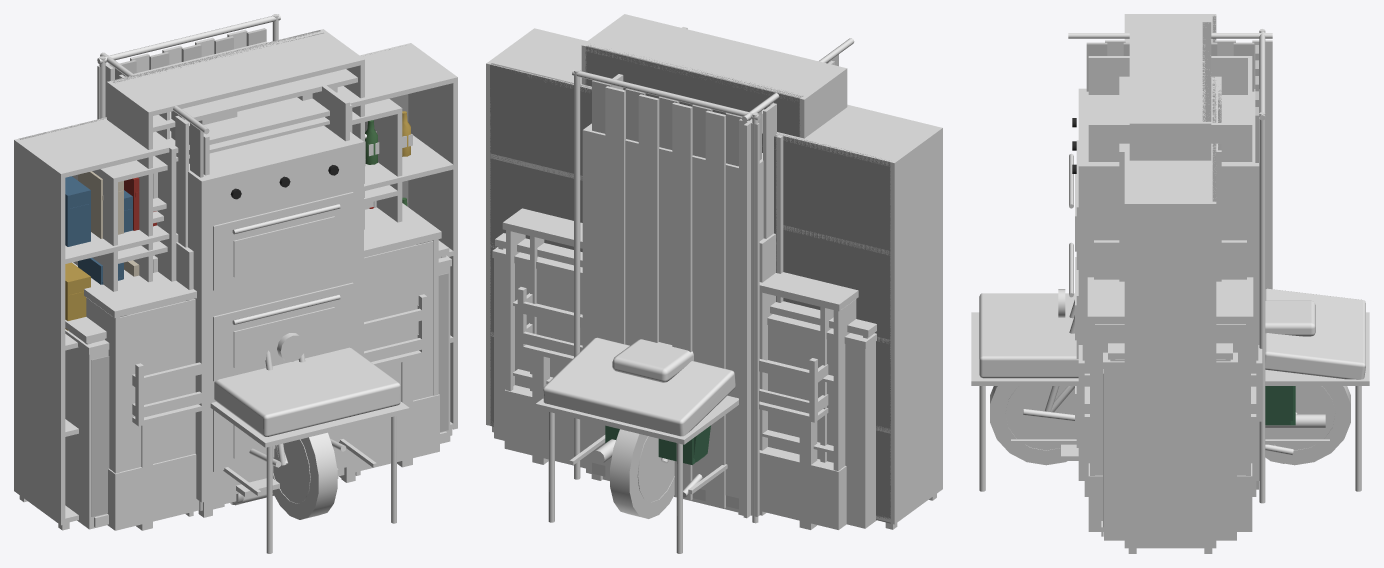
File: furn_shop.glb
3 renders of one model, left to right at view 1: azimuth 30°, elevation 25°; view 2: azimuth 150°, elevation 25°; view 3: azimuth 270°, elevation 25°, orthographic. The views are drawn at different scales.
Visible parts, largest first — view 1: wall_unit_big-tint-1, oven_baker-1, fridge_meat-4, oven_baker-0, exam_bed-tint-2, shop_counter_wood-tint-0, shelf_tienda-tint-1, shelf_ferre-tint-1, fridge_meat-tint-0, oven_baker-2, fruit_stand-0, wall_unit_small-tint-1 (+21 smaller); view 2: wall_unit_big-tint-1, fitting_curtain-tint-1, oven_baker-1, shop_counter_wood-tint-0, shelf_tienda-tint-1, exam_bed-tint-2, fridge_meat-tint-0, fruit_stand-0, shelf_ferre-tint-1, motorbike-0, fitting_curtain-0, fridge_meat-1 (+10 smaller); view 3: wall_unit_big-tint-1, exam_bed-tint-2, oven_baker-1, shelf_tienda-tint-1, motorbike-0, shop_counter_wood-tint-0, phone_booth-tint-0, shelf_ferre-tint-1, fitting_curtain-tint-1, fitting_curtain-0, fridge_meat-4, fridge_meat-1 (+16 smaller).
Part boxes in pixels (x1,y1,x2,y2): wall_unit_big-tint-1: [14, 43, 457, 525]; oven_baker-1: [188, 125, 363, 502]; fridge_meat-4: [86, 241, 433, 471]; oven_baker-0: [198, 192, 355, 517]; exam_bed-tint-2: [214, 347, 400, 436]; shop_counter_wood-tint-0: [65, 266, 450, 529]; shelf_tienda-tint-1: [108, 30, 363, 213]; shelf_ferre-tint-1: [107, 29, 364, 282]; fridge_meat-tint-0: [107, 394, 439, 530]; oven_baker-2: [233, 216, 334, 458]; fruit_stand-0: [132, 294, 427, 530]; wall_unit_small-tint-1: [72, 99, 402, 291]; wall_unit_big-tint-1: [486, 28, 942, 524]; fitting_curtain-tint-1: [592, 54, 838, 518]; oven_baker-1: [582, 123, 763, 498]; shop_counter_wood-tint-0: [494, 258, 875, 528]; shelf_tienda-tint-1: [583, 15, 846, 137]; exam_bed-tint-2: [543, 337, 735, 436]; fridge_meat-tint-0: [504, 385, 846, 529]; fruit_stand-0: [517, 287, 828, 529]; shelf_ferre-tint-1: [581, 14, 847, 138]; motorbike-0: [610, 339, 693, 518]; fitting_curtain-0: [572, 38, 854, 523]; fridge_meat-1: [502, 208, 858, 453]; wall_unit_big-tint-1: [1124, 14, 1216, 548]; exam_bed-tint-2: [979, 288, 1365, 379]; oven_baker-1: [1078, 88, 1259, 480]; shelf_tienda-tint-1: [1131, 20, 1209, 160]; motorbike-0: [990, 300, 1350, 465]; shop_counter_wood-tint-0: [1103, 369, 1236, 540]; phone_booth-tint-0: [1088, 56, 1252, 161]; shelf_ferre-tint-1: [1129, 20, 1211, 160]; fitting_curtain-tint-1: [1086, 40, 1272, 489]; fitting_curtain-0: [1068, 29, 1272, 503]; fridge_meat-4: [1095, 324, 1245, 475]; fridge_meat-1: [1087, 277, 1253, 323].
Bounding box in the file's own units: 2.2 × 2.1 × 1.95.
